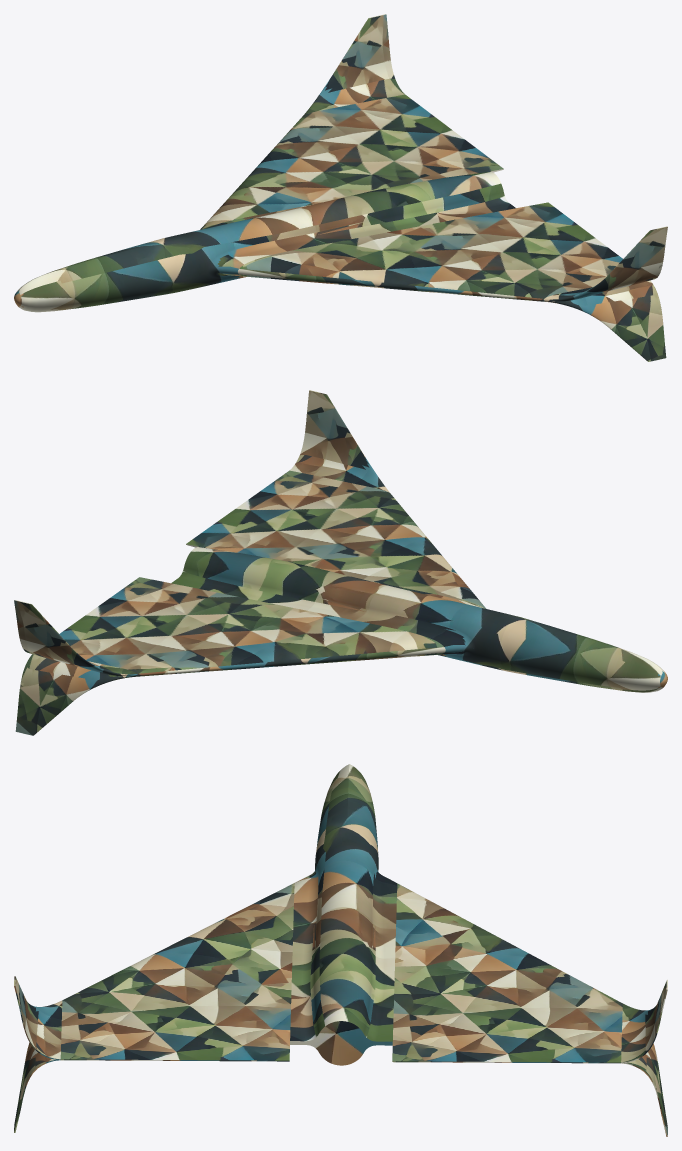
The picture shows the model from 3 angles, top to bottom: view 1: azimuth 30°, elevation 25°; view 2: azimuth 150°, elevation 25°; view 3: azimuth 270°, elevation 25°; orthographic projection. The views are drawn at different scales.
Visible parts, largest first — view 1: Body1; view 2: Body1; view 3: Body1.
Part boxes in pixels (x1,y1,x2,y2): Body1: (14, 14, 667, 361); Body1: (14, 390, 667, 735); Body1: (14, 764, 667, 1136).
Size of what is drawn, in the model's own units: 1.43 by 0.3508 by 1.4.
Materials: 5 (5 with a texture image).
